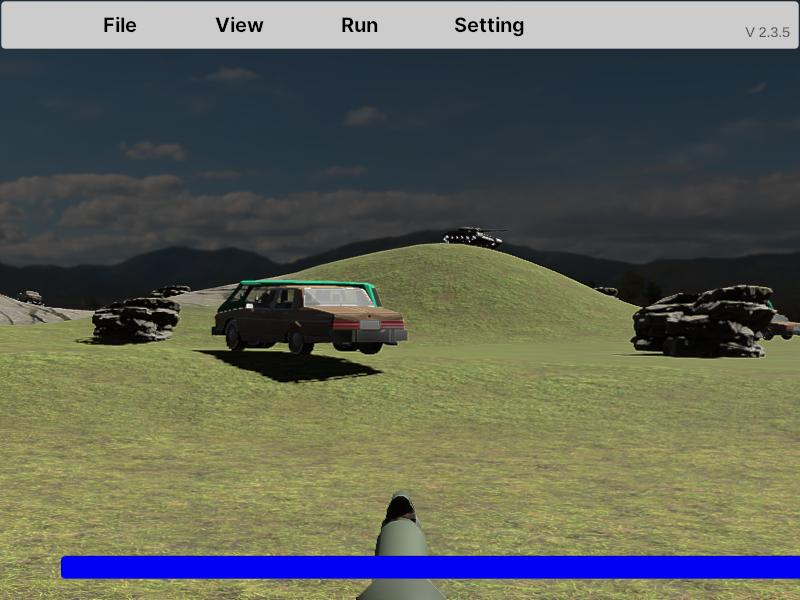car: (212, 286, 410, 357)
